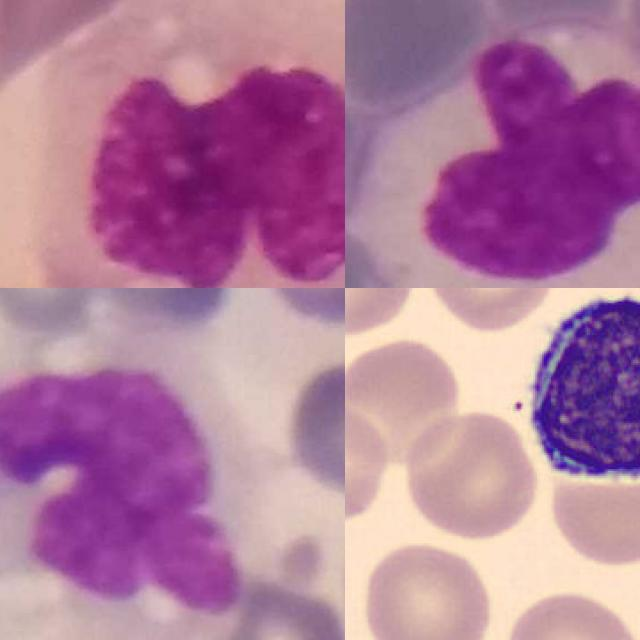Lymphocyte: (515, 288, 640, 488)
Monocyte: (32, 0, 345, 288), (0, 328, 266, 640), (364, 21, 640, 288)
RBC: (400, 411, 542, 541), (345, 329, 463, 465), (355, 537, 497, 640), (497, 585, 640, 640), (345, 395, 393, 531), (421, 288, 559, 333), (345, 288, 419, 340)
